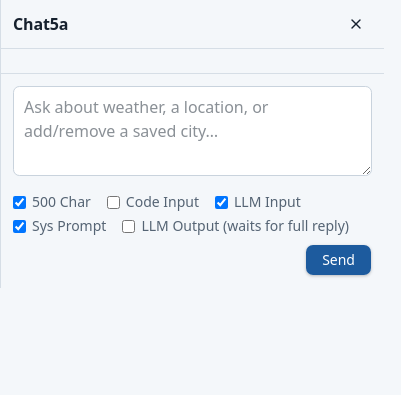
Test: shows the streaming reply as plain text, then markdown without a usage chip when done has no usage
Type "add Nashville" into the text box named "message". click: (192, 131)
box: top-left (13, 86), bottom-right (372, 176)
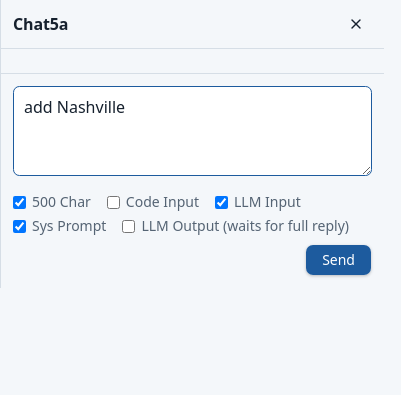
Click the button "Send". click: (339, 260)
box: top-left (305, 244), bottom-right (372, 276)
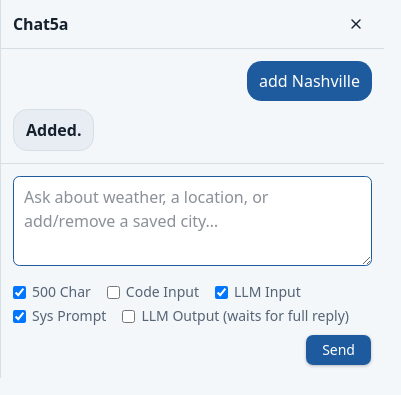
Now the text "**Added.**" is shown, box top-left (13, 109), bottom-right (94, 151)
Now the text "Added." is shown, box top-left (26, 119), bottom-right (82, 141)
